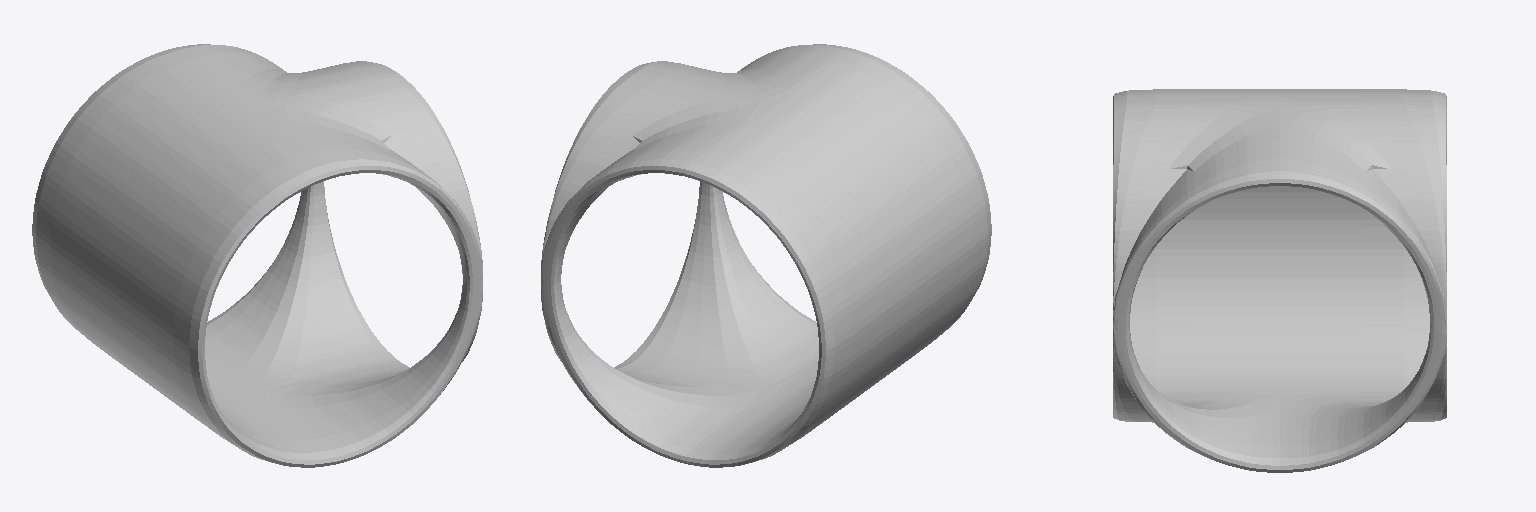
File: tubetee.obj
The picture shows the model from 3 angles: view 1: azimuth 30°, elevation 25°; view 2: azimuth 150°, elevation 25°; view 3: azimuth 270°, elevation 25°; orthographic projection.
Visible parts, largest first — view 1: Tee_Cylinder.005; view 2: Tee_Cylinder.005; view 3: Tee_Cylinder.005.
Part boxes in pixels (bbox=[...]): Tee_Cylinder.005: bbox=[32, 44, 482, 467]; Tee_Cylinder.005: bbox=[541, 44, 991, 467]; Tee_Cylinder.005: bbox=[1113, 89, 1446, 472].
Size of the model in its own units: 2 by 1.99 by 2.